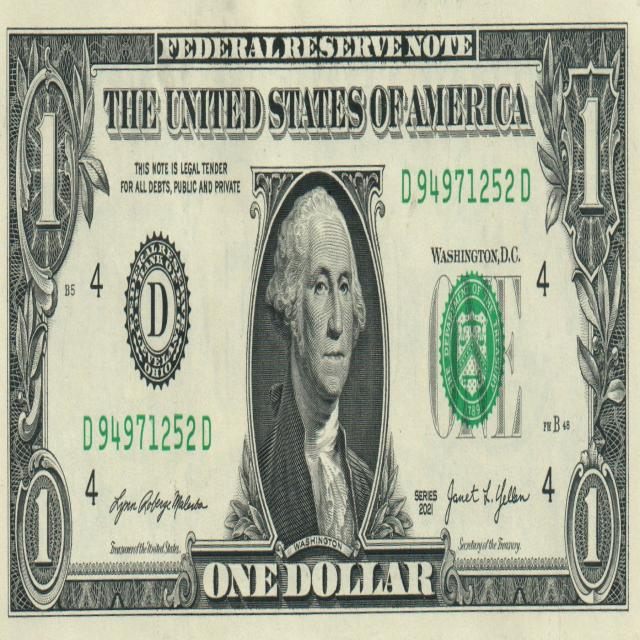SerialNumber: (84, 414, 211, 451), (402, 169, 530, 204)
